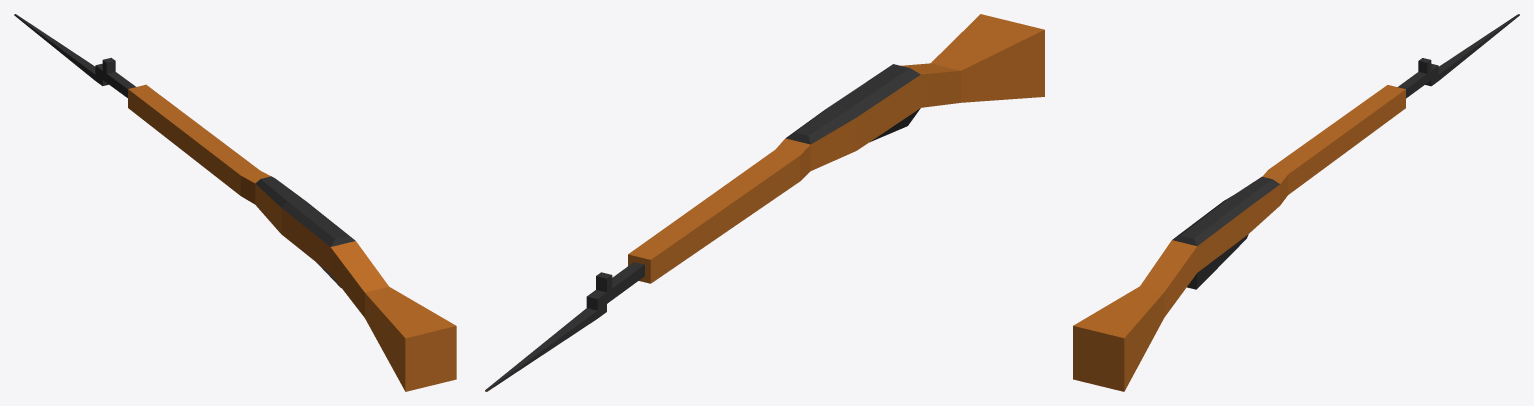
The model's file is karab3Rus.fbx.
3 renders of one model, left to right at view 1: azimuth 30°, elevation 25°; view 2: azimuth 150°, elevation 25°; view 3: azimuth 330°, elevation 25°, orthographic. The views are drawn at different scales.
Parts seen in each view (by area): view 1: Soldier.003; view 2: Soldier.003; view 3: Soldier.003.
Part boxes in pixels (x1,y1,x2,y2): Soldier.003: (14, 14, 456, 391); Soldier.003: (485, 14, 1044, 391); Soldier.003: (1073, 14, 1519, 391).
Size of the model in its own units: 41.63 by 68.43 by 589.
